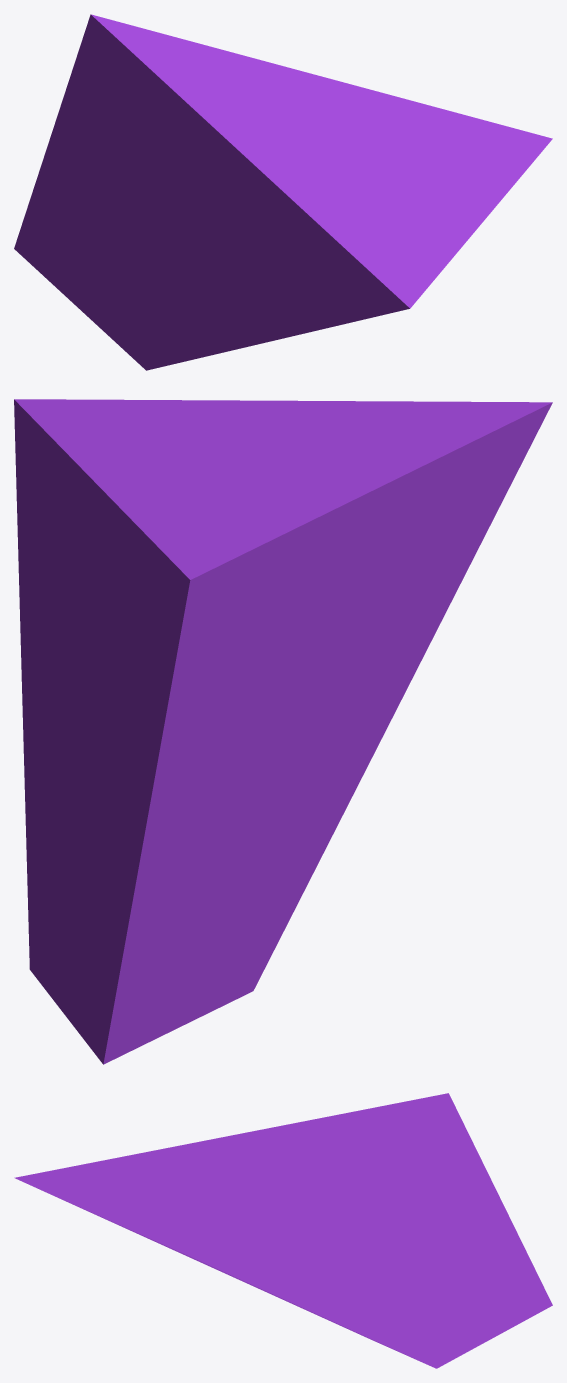
File: Glass_100_3_3_chunks.fbx
3 views of the same model, one above another, from view 1: azimuth 30°, elevation 25°; view 2: azimuth 150°, elevation 25°; view 3: azimuth 270°, elevation 25° (orthographic). The views are drawn at different scales.
Parts seen in each view (by area): view 1: Glass_100_3_3_0; view 2: Glass_100_3_3_0; view 3: Glass_100_3_3_0.
Boxes of the visible parts, bbox=[...] form: Glass_100_3_3_0: bbox=[14, 14, 552, 370]; Glass_100_3_3_0: bbox=[14, 399, 552, 1064]; Glass_100_3_3_0: bbox=[14, 1093, 552, 1368].
Size of the model in its own units: 36.03 by 36.86 by 73.42.
